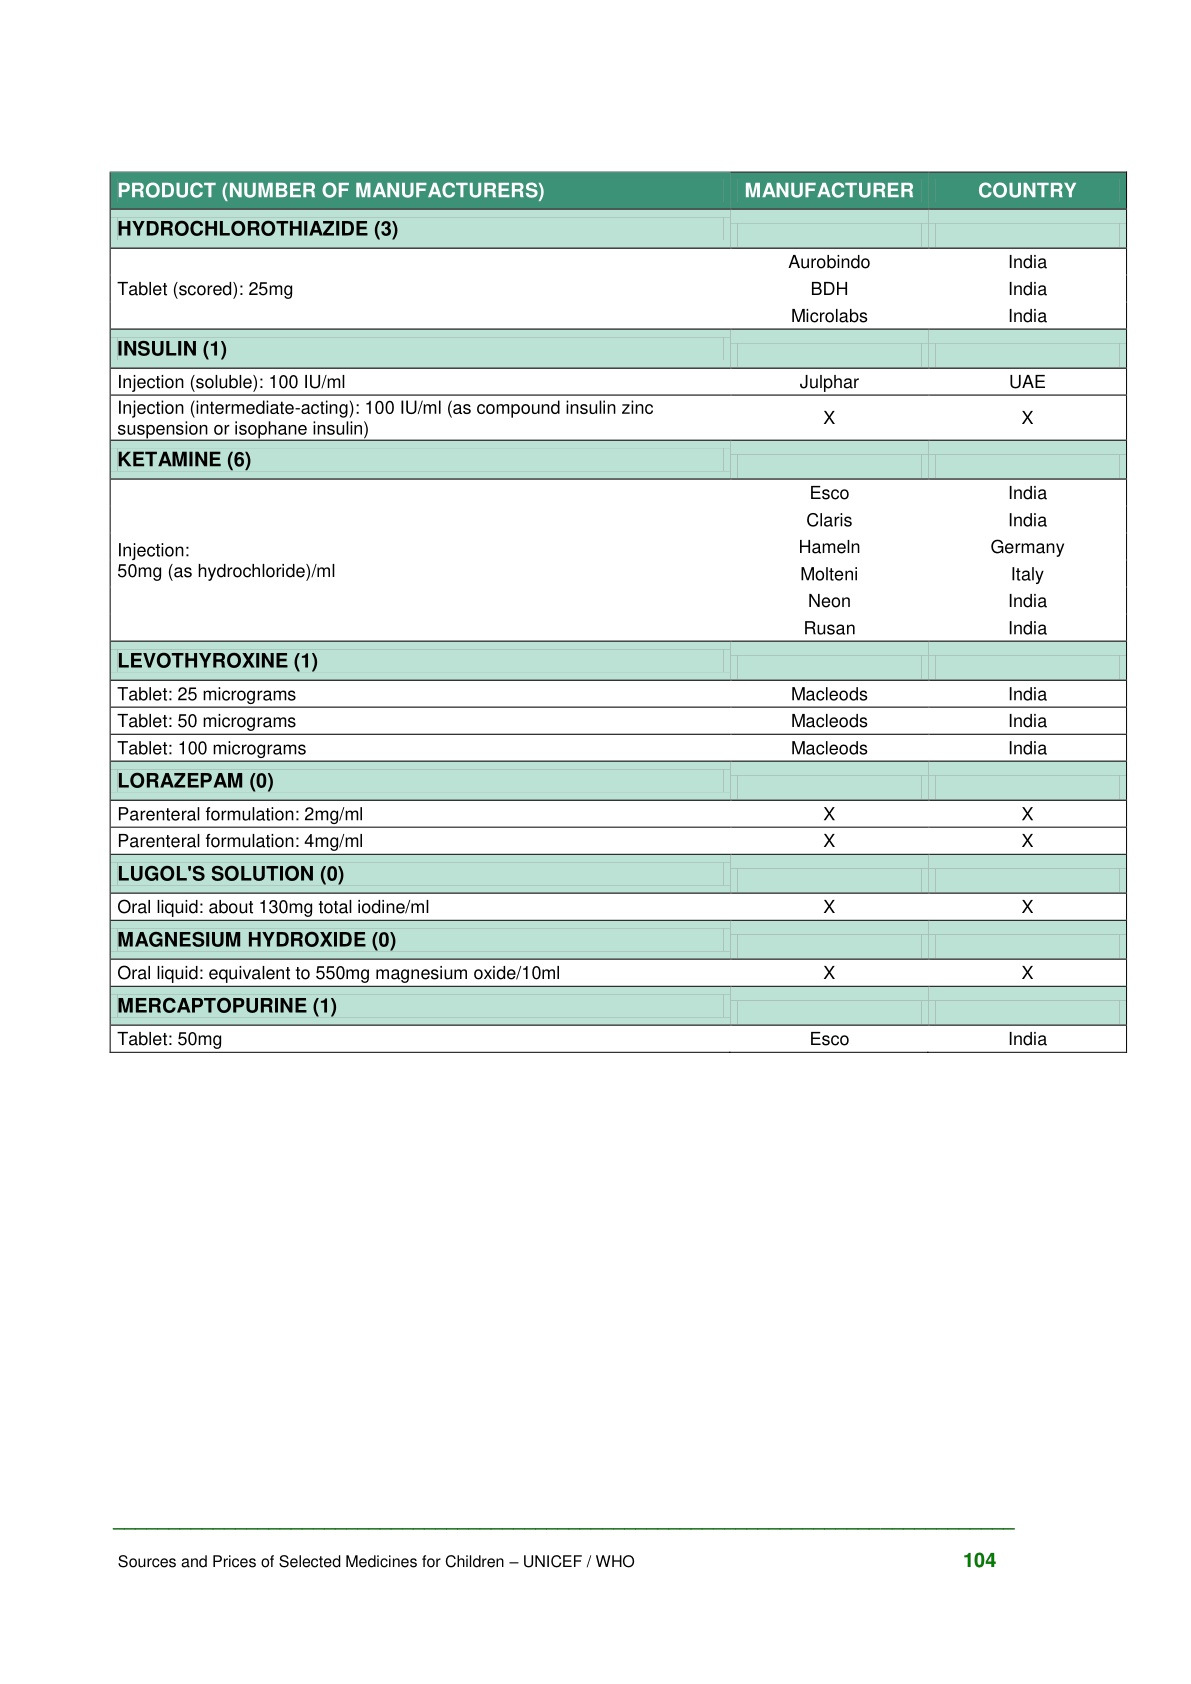partial_lined: (108, 169, 1128, 1054)
